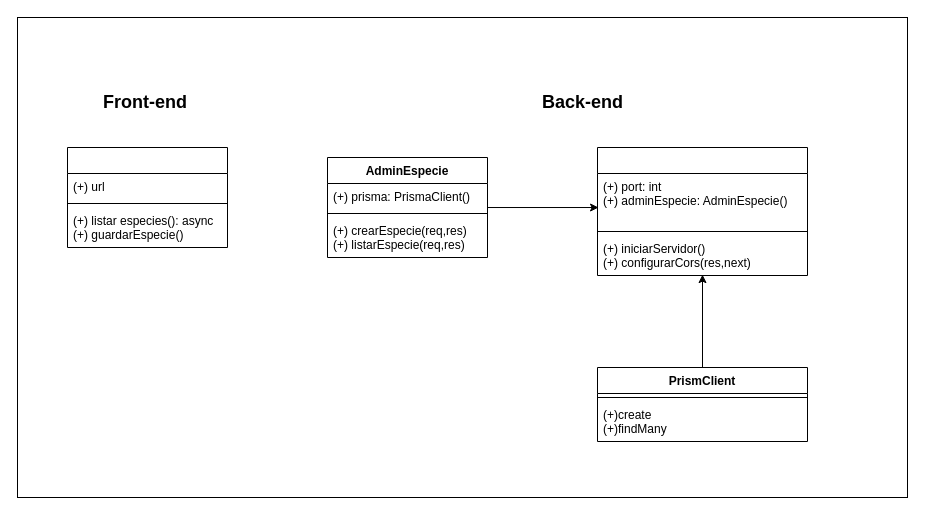
The diagram is 925 pixels wide and 515 high, and some of its shapes have lost their labels. The shapes that lost their labels are listed below. From the top down, each one's box as (x1, y1, x2, y2) in pixels, then its label:
(66, 146, 228, 248): EspecieApi
(596, 146, 808, 276): AteneaVetApi
